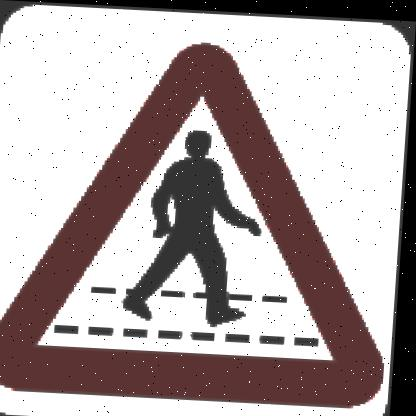Pedestrian Crossing: (1, 40, 397, 405)
